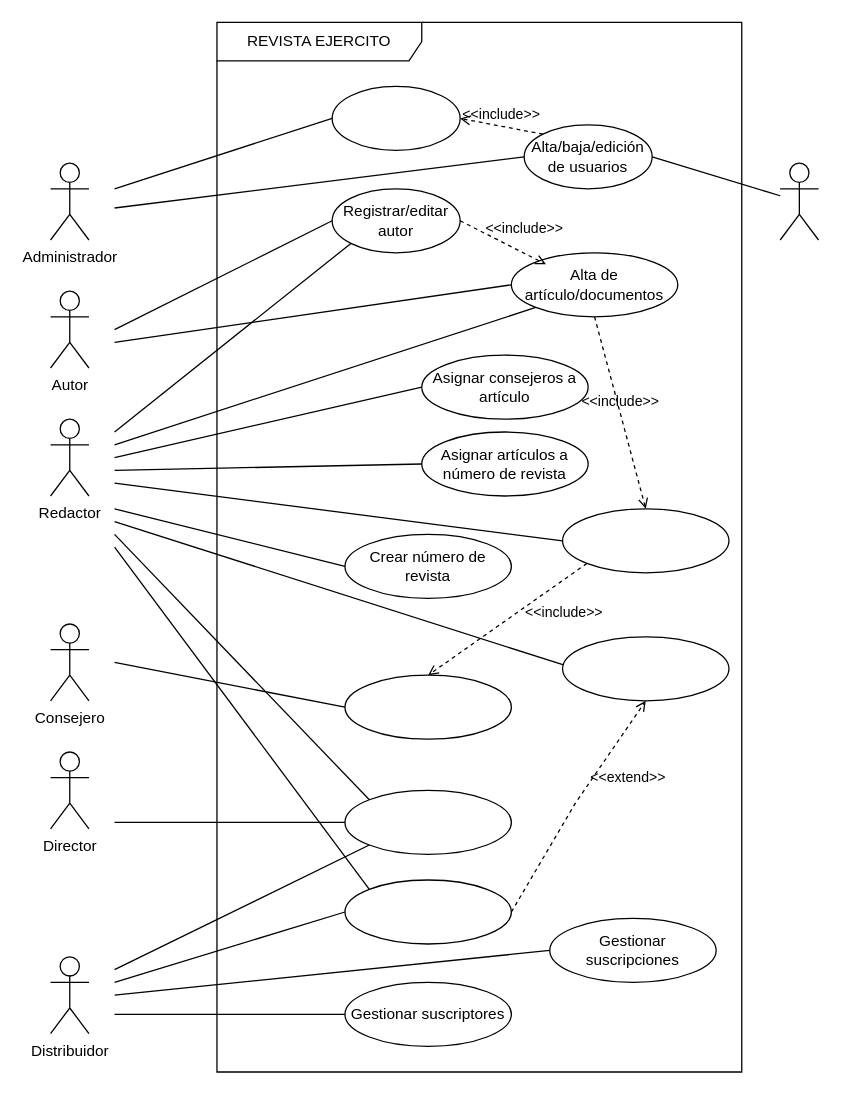
This 855x1094 diagram has some shape labels left out. The centre of each missing label's shape, as x and y in pixels:
Asignación de roles: point 395,117
Cerrar número de revista: point 645,668
Clasificar artículo: point 645,540
DICODEF: point 799,201
Imprimir etiquetas: point 427,911
Realizar consultas/búsquedas: point 427,821
Registrar evaluciones de artículos: point 427,706
